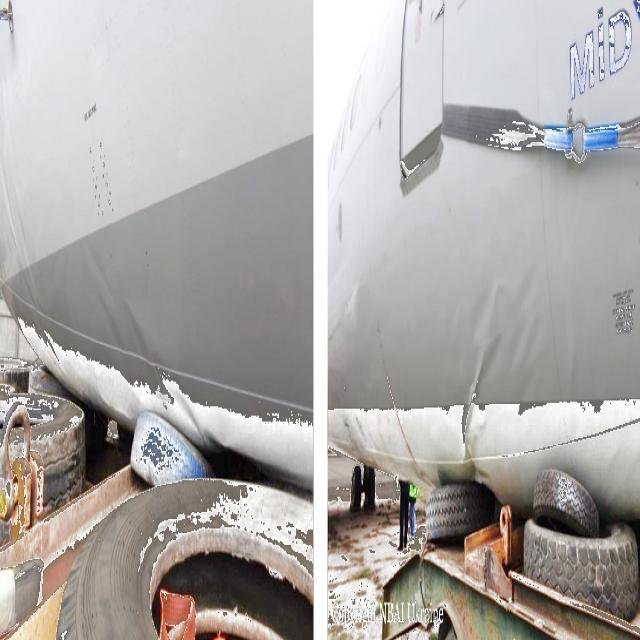dent: (90, 224, 182, 439), (462, 265, 543, 494)
